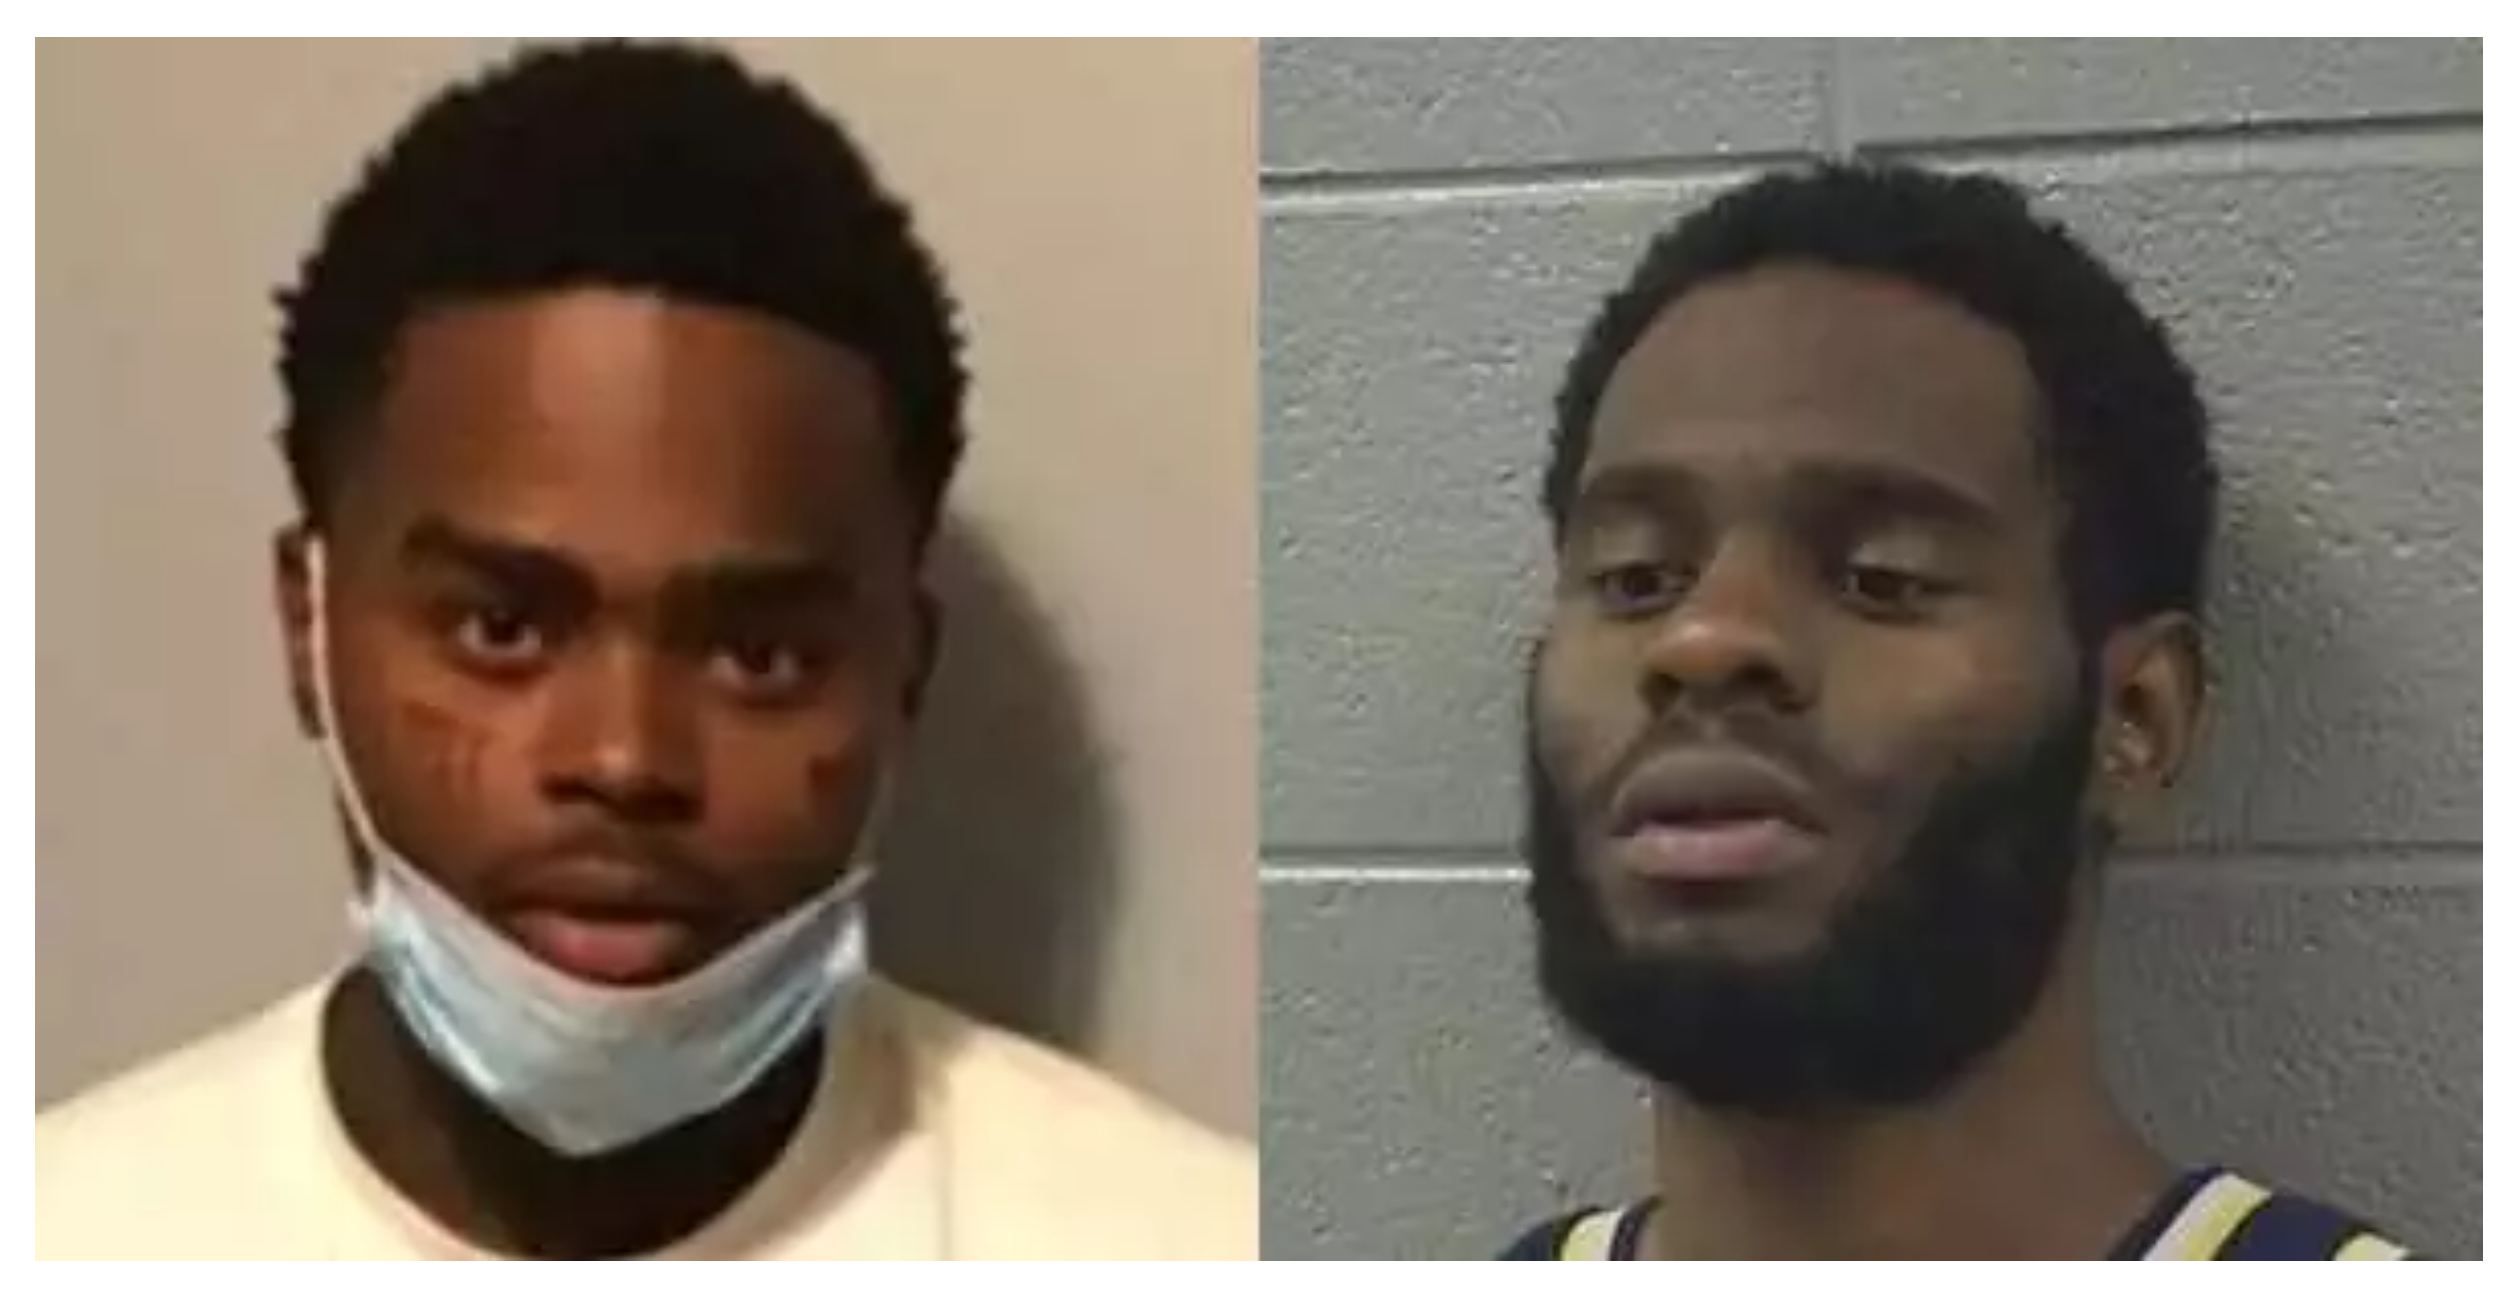mask_weared_incorrect: (274, 348, 982, 1163)
without_mask: (1494, 403, 2217, 1074)
